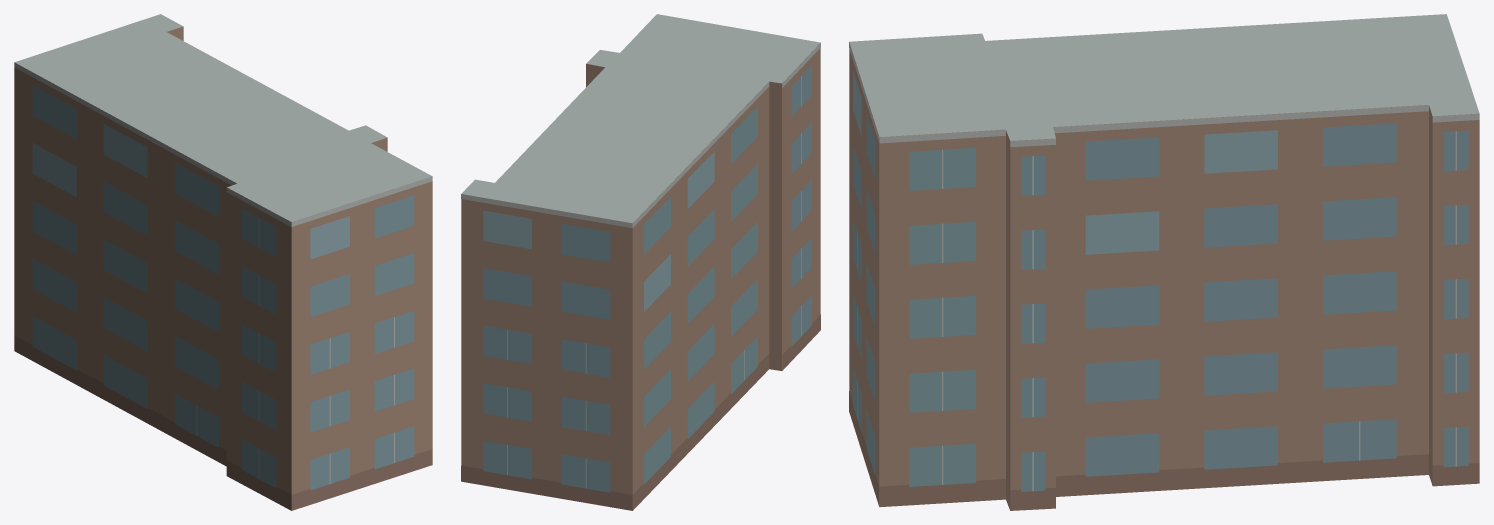
The model's file is survey-upis-32709188.glb.
The picture shows the model from 3 angles, left to right: view 1: azimuth 30°, elevation 25°; view 2: azimuth 150°, elevation 25°; view 3: azimuth 270°, elevation 25°; orthographic projection. The views are drawn at different scales.
Visible parts, largest first — view 1: survey-upis-32709188.tmp; view 2: survey-upis-32709188.tmp; view 3: survey-upis-32709188.tmp.
Part boxes in pixels (<box>): survey-upis-32709188.tmp: <box>14,14,432,510</box>; survey-upis-32709188.tmp: <box>461,14,820,510</box>; survey-upis-32709188.tmp: <box>849,14,1479,510</box>.
Size of the model in its own units: 10.57 by 14.35 by 22.17.
